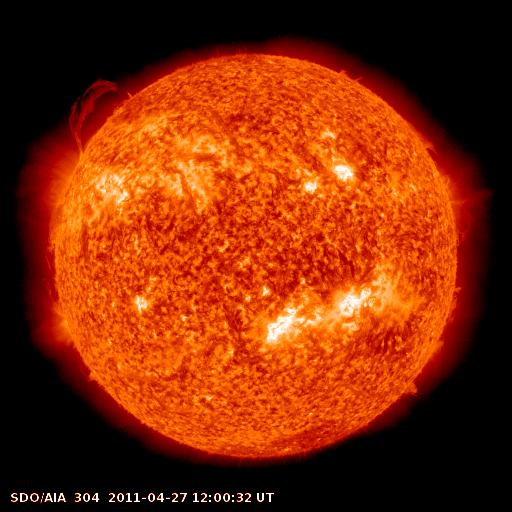prominence: (64, 71, 141, 164), (34, 209, 79, 319), (401, 117, 446, 163), (72, 348, 108, 393), (390, 370, 426, 406), (440, 286, 466, 327), (426, 336, 449, 365)
